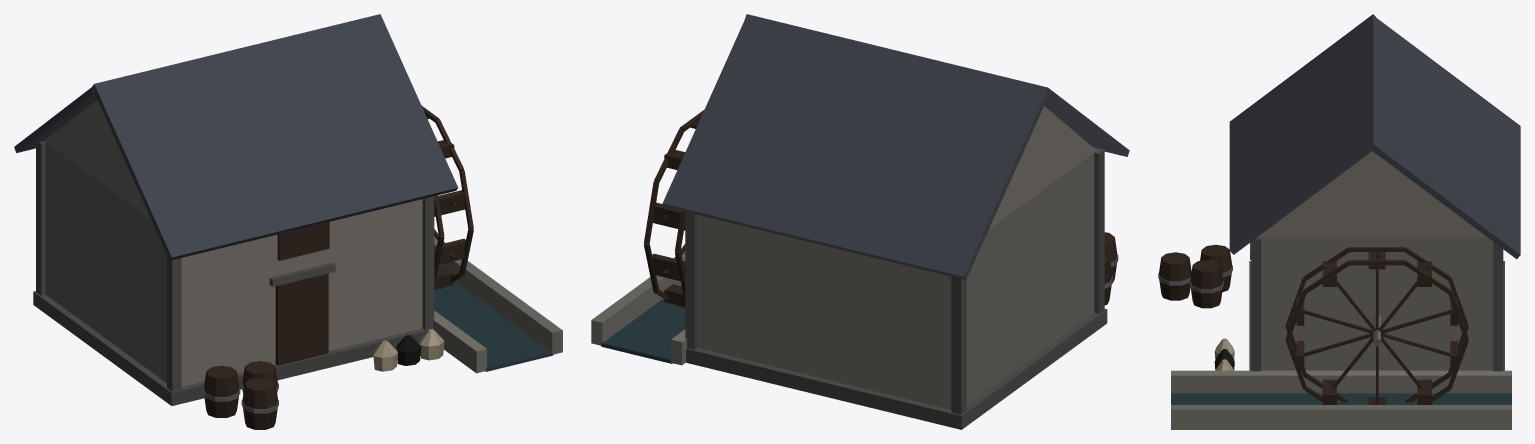
The model's file is walk_freehold_mill.glb.
3 renders of one model, left to right at view 1: azimuth 30°, elevation 25°; view 2: azimuth 150°, elevation 25°; view 3: azimuth 270°, elevation 25°, orthographic. The views are drawn at different scales.
Visible parts, largest first — view 1: walk_freehold_mill, walk_freehold_mill_roof; view 2: walk_freehold_mill, walk_freehold_mill_roof; view 3: walk_freehold_mill, walk_freehold_mill_roof.
Boxes of the visible parts, x1,y1,x2,y2 form: walk_freehold_mill: [33, 100, 562, 429]; walk_freehold_mill_roof: [14, 14, 458, 260]; walk_freehold_mill: [591, 106, 1118, 429]; walk_freehold_mill_roof: [662, 14, 1129, 279]; walk_freehold_mill: [1158, 150, 1511, 429]; walk_freehold_mill_roof: [1229, 14, 1520, 259].
Size of what is drawn, in the model's own units: 8.52 by 6.36 by 8.08.
2 materials, 2 textured.
